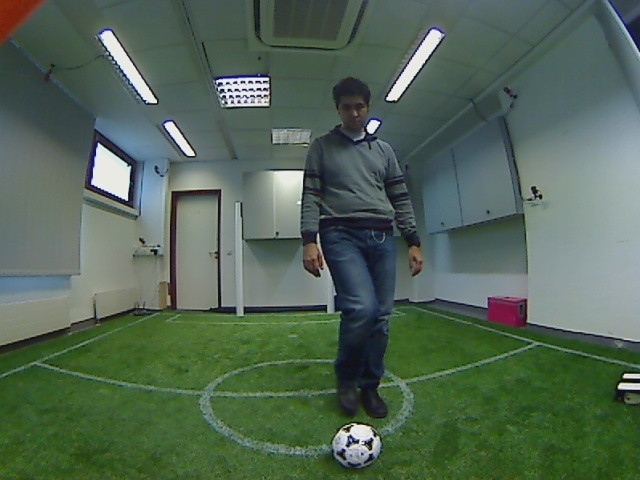ball: (325, 414, 389, 475)
